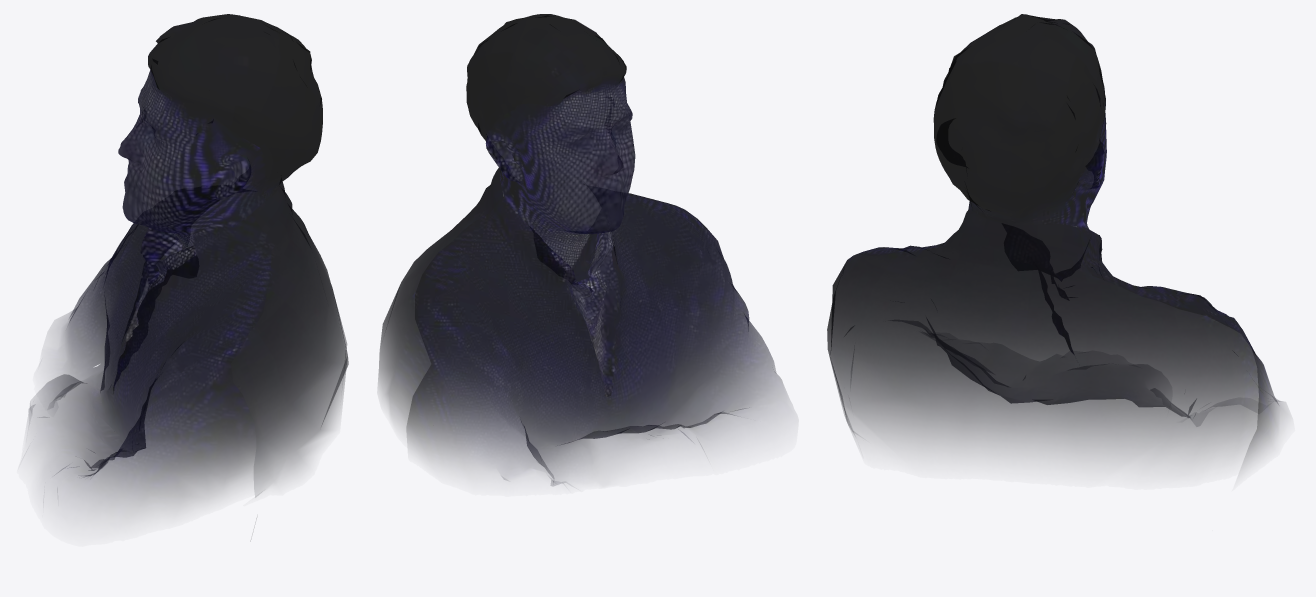
Rendered from Felipe_V1_Hologram_optimized.glb.
The picture shows the model from 3 angles, left to right: view 1: azimuth 30°, elevation 25°; view 2: azimuth 150°, elevation 25°; view 3: azimuth 270°, elevation 25°; orthographic projection. The views are drawn at different scales.
Parts seen in each view (by area): view 1: Felipe_Hologram_Ex; view 2: Felipe_Hologram_Ex; view 3: Felipe_Hologram_Ex.
Part boxes in pixels (<box>): Felipe_Hologram_Ex: <box>24,14,348,512</box>; Felipe_Hologram_Ex: <box>378,14,790,486</box>; Felipe_Hologram_Ex: <box>827,14,1286,468</box>.
Bounding box in the file's own units: 77.08 × 113 × 88.28.
Materials: 1 (1 with a texture image).
